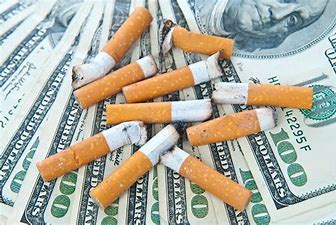cigarette: (35, 119, 150, 182), (68, 4, 152, 90), (159, 144, 258, 212), (69, 48, 160, 117), (208, 78, 317, 113), (102, 98, 217, 130), (159, 19, 238, 62)
